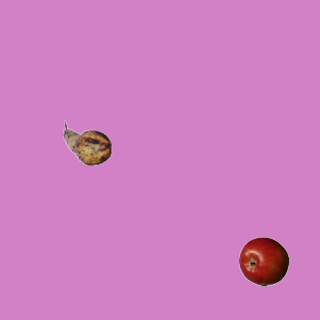Apple Braeburn: (238, 236, 288, 286)
Pear Abate: (62, 118, 112, 168)
